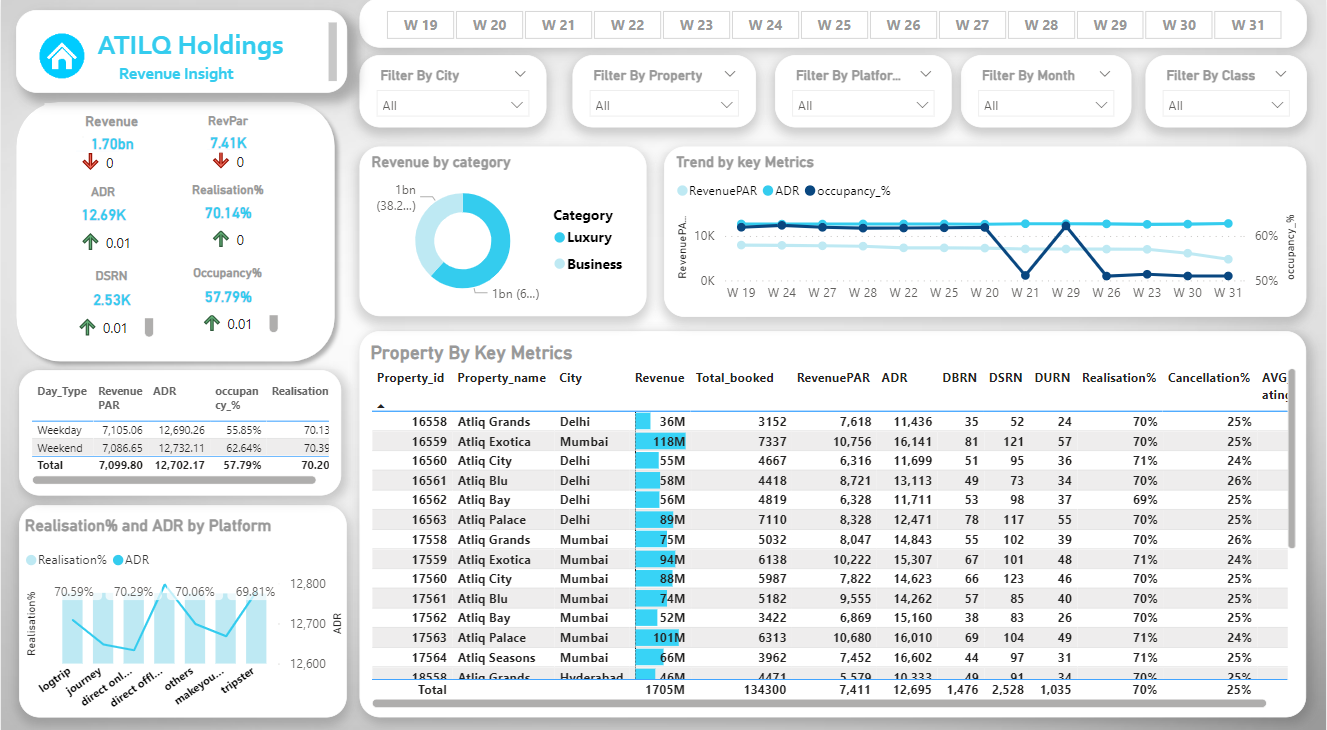

The dashboard page shown, as its layout file describes it:
{"tool":"powerbi","page":{"name":"Dashbaord","canvas":[1280,720],"ordinal":0},"visuals":[{"type":"shape","box":[5.6,91.1,325.6,268.9],"z":0},{"type":"slicer","fields":{"Values":["Dim_Hotels.City"]},"box":[346.3,55.6,180.6,70.1],"z":1000,"group":"g1"},{"type":"tableEx","fields":{"Values":["Key_Measure.ADR_Wow_chnage%"]},"box":[64.4,274.4,88.9,58.9],"z":1000},{"type":"slicer","fields":{"Values":["Dim_Date.mmm yy"]},"box":[927.4,56.1,164.4,69.7],"z":2000,"group":"g1"},{"type":"tableEx","fields":{"Values":["Key_Measure.ADR_Wow_chnage%"]},"box":[183.3,270,88.9,58.9],"z":2000},{"type":"slicer","fields":{"Values":["Dim_Hotels.Property_name"]},"box":[552.2,56.1,177.6,69.7],"z":3000,"group":"g1"},{"type":"tableEx","fields":{"Values":["Key_Measure.Realisation_Wow_chnage%"]},"box":[192.2,188.9,64.4,91.1],"z":3000},{"type":"slicer","fields":{"Values":["Facts_Booking.booking_platform"]},"box":[748.1,56.1,171,69.7],"z":4000,"group":"g1"},{"type":"tableEx","fields":{"Values":["Key_Measure.ADR_Wow_chnage%"]},"box":[66.7,191.1,72.2,88.9],"z":4000},{"type":"slicer","fields":{"Values":["Dim_Rooms.room_class"]},"box":[1105,56.1,156.1,69.7],"z":5000,"group":"g1"},{"type":"tableEx","fields":{"Values":["Key_Measure.RevPAR_wow_change%"]},"box":[192.2,113.3,54.4,60],"z":5000},{"type":"tableEx","fields":{"Values":["Key_Measure.Revenue_wow_change_%"]},"box":[66.7,114.4,64.4,91.1],"z":6000},{"type":"tableEx","title":"Property By Key Metrics","fields":{"Values":["Dim_Hotels.property_id","Dim_Hotels.property_name","Dim_Hotels.city","Key_Measure.Revenue","Key_Measure.Total_booking","Key_Measure.RevenuePAR","Key_Measure.ADR_Average_Daily_Rate","Key_Measure.DBRN","Key_Measure.DSRN","Key_Measure.DURN","Key_Measure.Realisation%","Key_Measure.cancellation_percentage"]},"box":[347,322.1,914.8,373.5],"z":7000},{"type":"lineChart","title":"Trend by key Metrics","fields":{"Category":["Dim_Date.week no"],"Y":["Key_Measure.RevenuePAR","Key_Measure.ADR"],"Y2":["Key_Measure.occupancy_%"]},"box":[640.8,142.8,620.9,164.4],"z":8000},{"type":"donutChart","fields":{"Category":["Dim_Hotels.category"],"Y":["Key_Measure.Revenue"]},"box":[346.3,143.3,277.6,164.2],"z":9000},{"type":"lineStackedColumnComboChart","fields":{"Category":["Facts_Booking.booking_platform"],"Y":["Key_Measure.Realisation%"],"Y2":["Key_Measure.ADR"]},"box":[17.8,490,316.7,205.6],"z":10000},{"type":"slicer","fields":{"Values":["Dim_Date.week no"]},"box":[345.8,0,915.6,47.9],"z":11000},{"type":"group","id":"g1","title":"Group 1","box":[346.3,55.6,914.8,70.2],"z":12000},{"type":"card","title":"RevPar","fields":{"Values":["Key_Measure.RevenuePAR"]},"box":[161.1,101.1,116.7,47.8],"z":13000},{"type":"card","title":"Revenue","fields":{"Values":["Key_Measure.Revenue"]},"box":[42.2,101.1,130,47.8],"z":14000},{"type":"card","title":"DSRN","fields":{"Values":["Key_Measure.DSRN"]},"box":[47.8,250,117.8,58.9],"z":15000},{"type":"card","title":"ADR","fields":{"Values":["Key_Measure.ADR"]},"box":[32.2,168.9,133.3,56.7],"z":16000},{"type":"card","title":"Realisation%","fields":{"Values":["Key_Measure.Realisation%"]},"box":[165.6,167.8,107.8,56.7],"z":17000},{"type":"textbox","box":[14.5,11.6,320.3,79.7],"z":18000},{"type":"tableEx","fields":{"Values":["Dim_Date.day_type","Key_Measure.RevenuePAR","Key_Measure.ADR","Key_Measure.occupancy_%","Key_Measure.Realisation%"]},"box":[17.8,360,311.1,121.1],"z":19000},{"type":"image","box":[31.9,29,53.6,53.6],"z":20000},{"type":"card","title":"Occupancy%","fields":{"Values":["Key_Measure.occupancy_%"]},"box":[158.9,247.8,118.9,58.9],"z":21000}]}

Visuals, with their boxes in screenshot pixels (x1, y1, x2, y2), scaled from the page's 1280x720 canvas onto the 1327x730 screenshot:
shape: left=6, top=92, right=343, bottom=365
slicer - Dim_Hotels.City: left=359, top=56, right=546, bottom=127
tableEx - Key_Measure.ADR_Wow_chnage%: left=67, top=278, right=159, bottom=338
slicer - Dim_Date.mmm yy: left=961, top=57, right=1132, bottom=128
tableEx - Key_Measure.ADR_Wow_chnage%: left=190, top=274, right=282, bottom=333
slicer - Dim_Hotels.Property_name: left=572, top=57, right=757, bottom=128
tableEx - Key_Measure.Realisation_Wow_chnage%: left=199, top=192, right=266, bottom=284
slicer - Facts_Booking.booking_platform: left=776, top=57, right=953, bottom=128
tableEx - Key_Measure.ADR_Wow_chnage%: left=69, top=194, right=144, bottom=284
slicer - Dim_Rooms.room_class: left=1146, top=57, right=1307, bottom=128
tableEx - Key_Measure.RevPAR_wow_change%: left=199, top=115, right=256, bottom=176
tableEx - Key_Measure.Revenue_wow_change_%: left=69, top=116, right=136, bottom=208
"Property By Key Metrics" tableEx: left=360, top=327, right=1308, bottom=705
"Trend by key Metrics" lineChart: left=664, top=145, right=1308, bottom=311
donutChart - Dim_Hotels.category x Key_Measure.Revenue: left=359, top=145, right=647, bottom=312
lineStackedColumnComboChart - Facts_Booking.booking_platform x Key_Measure.Realisation%: left=18, top=497, right=347, bottom=705
slicer - Dim_Date.week no: left=358, top=0, right=1308, bottom=49
"Group 1" group: left=359, top=56, right=1307, bottom=128
"RevPar" card: left=167, top=103, right=288, bottom=151
"Revenue" card: left=44, top=103, right=179, bottom=151
"DSRN" card: left=50, top=253, right=172, bottom=313
"ADR" card: left=33, top=171, right=172, bottom=229
"Realisation%" card: left=172, top=170, right=283, bottom=228
textbox: left=15, top=12, right=347, bottom=93
tableEx - Dim_Date.day_type x Key_Measure.RevenuePAR: left=18, top=365, right=341, bottom=488
image: left=33, top=29, right=89, bottom=84
"Occupancy%" card: left=165, top=251, right=288, bottom=311
